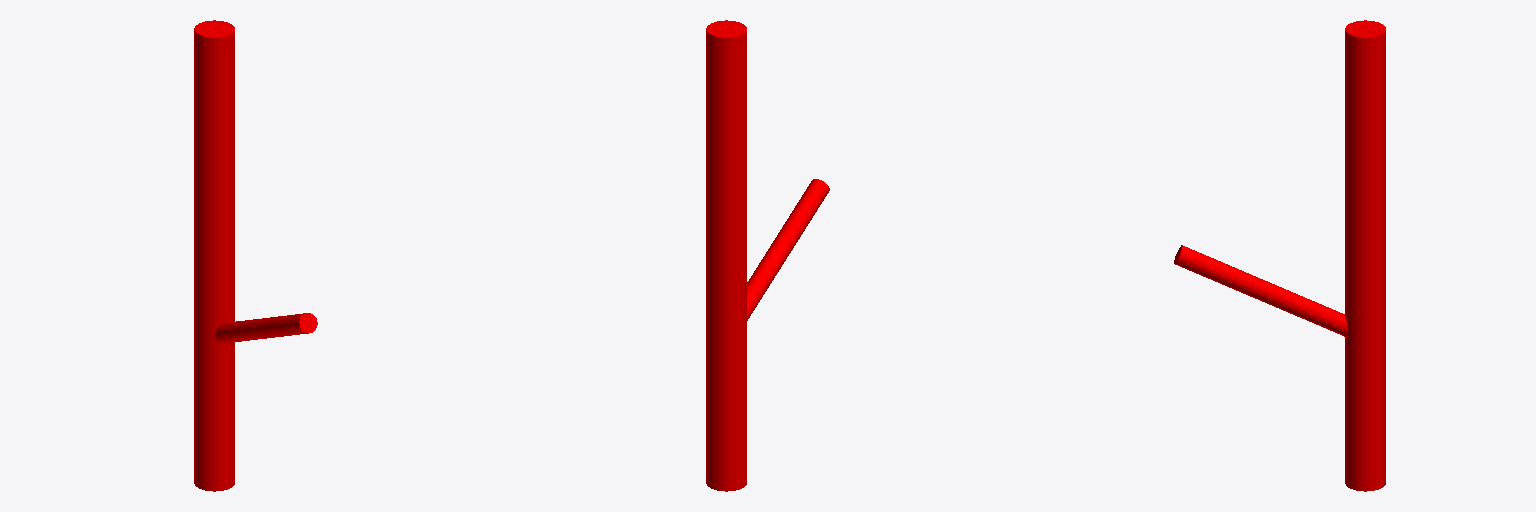
The robot description file, URDF, robot "tree.urdf":
<?xml version="1.0" ?>
<robot name="tree.urdf">
  <link name="baseLink">
    <inertial>
      <origin rpy="0 0 0" xyz="0 0 0"/>
       <mass value=".1"/>
       <inertia ixx="1" ixy="0" ixz="0" iyy="1" iyz="0" izz="1"/>
    </inertial>
    <contact>
      <lateral_friction value="1.0"/>
      <inertia_scaling value="3.0"/>
    </contact>
    <visual>
      <origin rpy="0 0 0" xyz="0 0 0"/>
      <geometry>
        <mesh filename="8.stl" scale="1 1 1" />
      </geometry>
      <material name="red">
        <color rgba="1 0 0 1"/>
      </material>
    </visual>
    <collision>
      <origin rpy="0 0 0" xyz="0 0 0"/>
      <geometry>
        <mesh filename="8_convex.obj" scale="1 1 1" />
      </geometry>
    </collision>
  </link>
</robot>

--- Render facts (derived) ---
3 views of the same robot in one strip: view 1: azimuth 30°, elevation 25°; view 2: azimuth 150°, elevation 25°; view 3: azimuth 270°, elevation 25° (orthographic).
Model tree.urdf with 1 links and 0 joints (none), rooted at baseLink, posed all joints at 0.
Visible links, largest first — view 1: baseLink; view 2: baseLink; view 3: baseLink.
Boxes of the visible links, <box> form: baseLink: <box>194,20,317,491</box>; baseLink: <box>706,20,829,491</box>; baseLink: <box>1174,20,1385,491</box>.
Size in the robot's own frame: 0.0333 by 0.1727 by 0.4072 metres.
1 mesh visuals loaded from 1 distinct referenced files (1 binary STL).